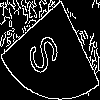S: (25, 24, 68, 80)
